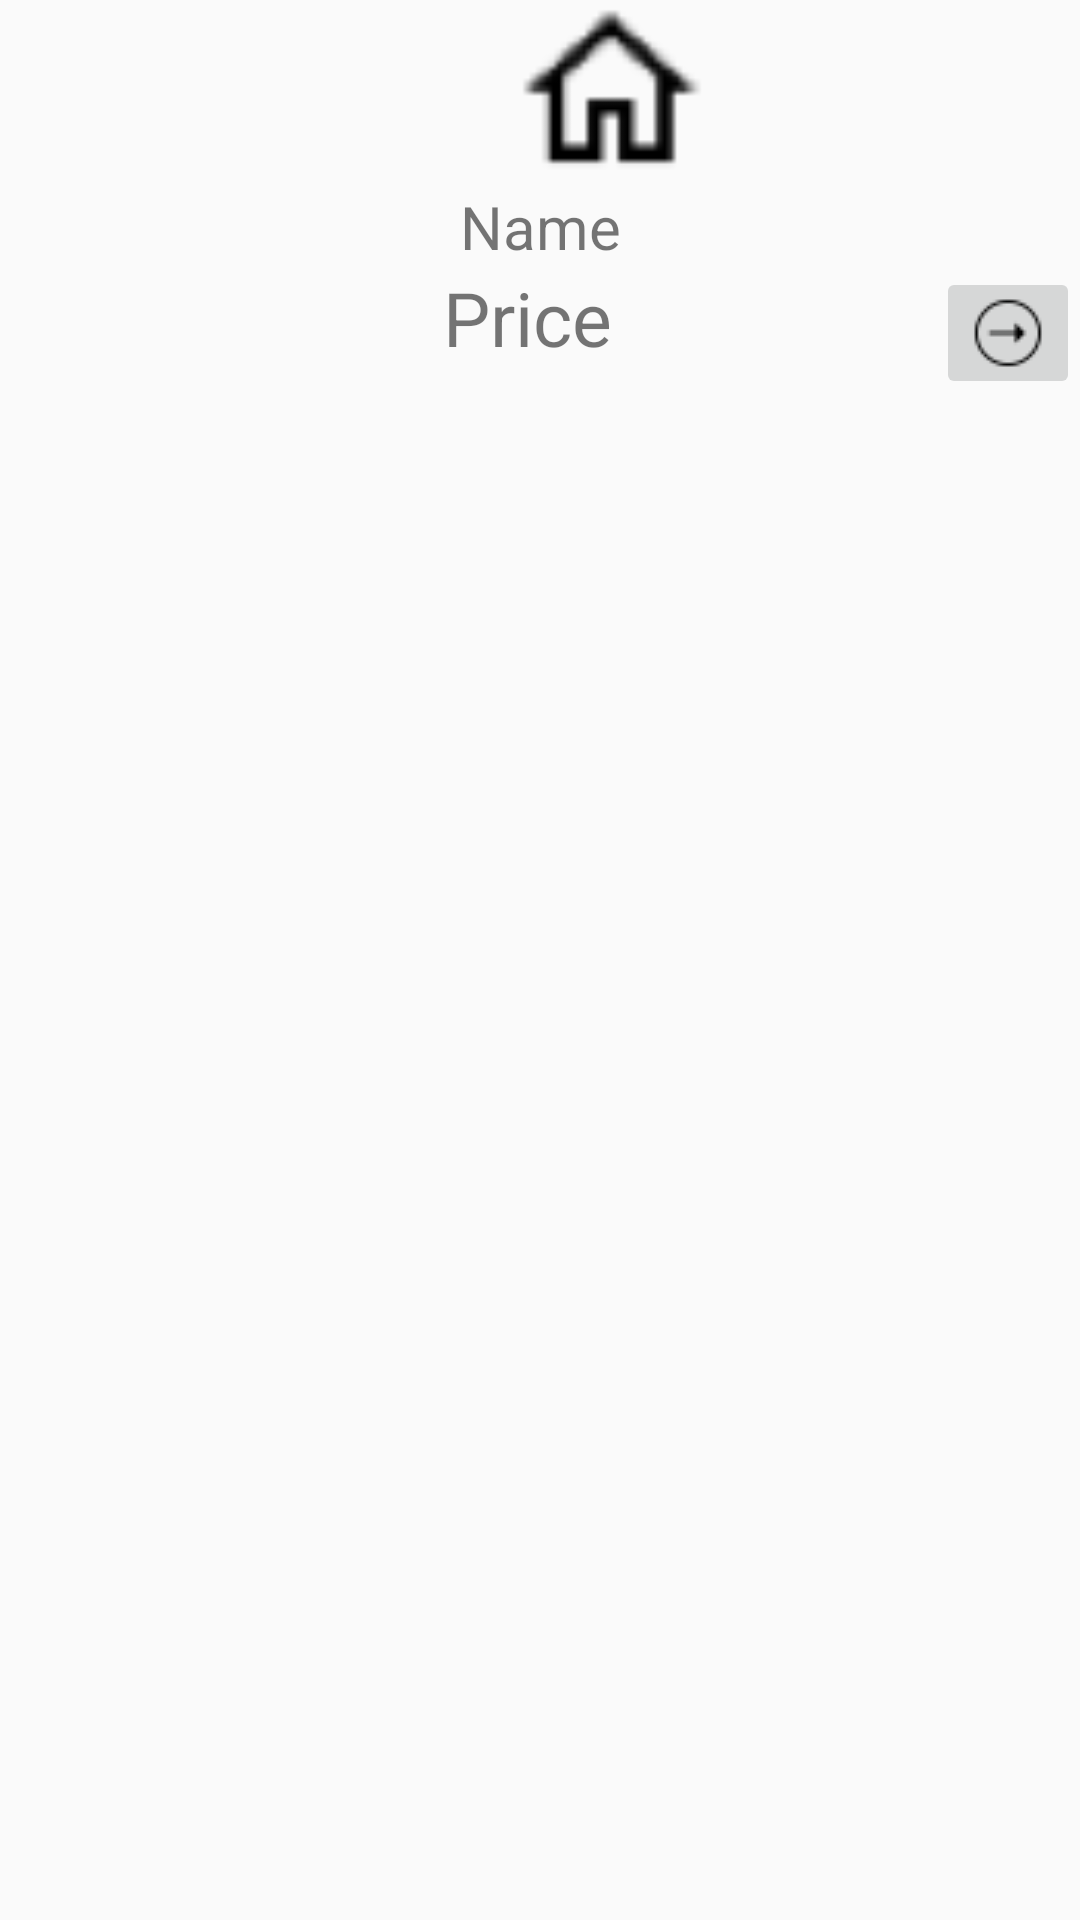

Screen size 1080px x 1920px. Icon name, then its center in pixels as (x=x, y=y):
right arrow: (x=1008, y=333)
